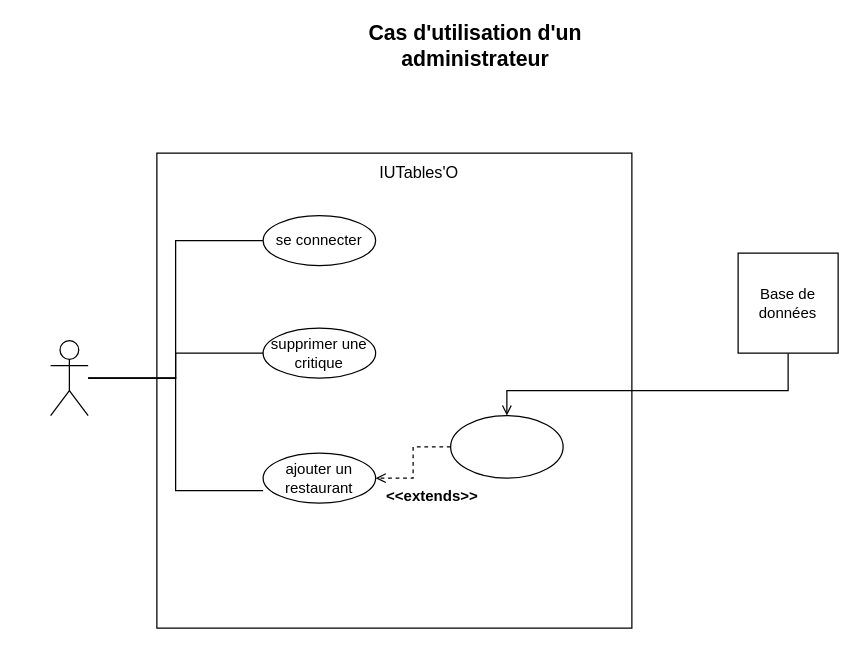
Image size: 860x650. Some labels were removed from this diagram. Each missing label, with the box of its shape:
administrateur: (49, 339, 88, 416)
charger un fichier JSON: (449, 414, 563, 478)
